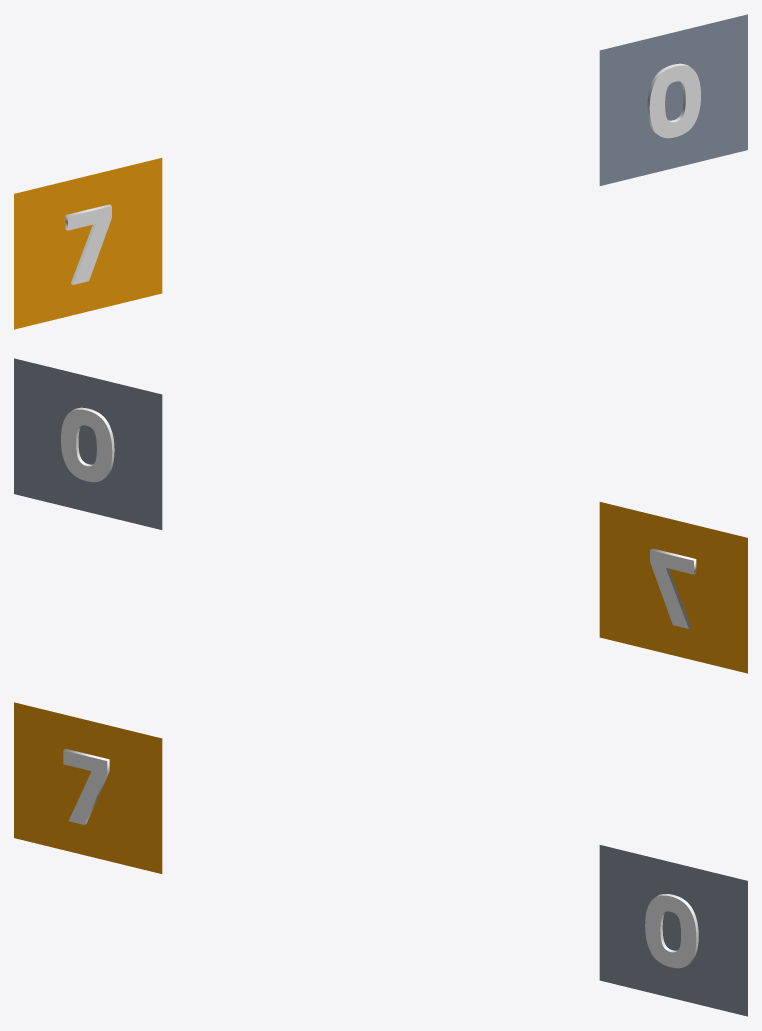
File: sayi6.gltf
The picture shows the model from 3 angles, top to bottom: view 1: azimuth 30°, elevation 25°; view 2: azimuth 150°, elevation 25°; view 3: azimuth 330°, elevation 25°; orthographic projection.
Parts seen in each view (by area): view 1: Plane.022, Plane.023, Text.076, Text.075; view 2: Plane.022, Plane.023, Text.076, Text.075; view 3: Plane.022, Plane.023, Text.076, Text.075.
Part boxes in pixels (x1,y1,x2,y2): Plane.022: (14,158,162,329); Plane.023: (599,14,747,185); Text.076: (647,63,700,138); Text.075: (65,204,111,284); Plane.022: (599,502,747,673); Plane.023: (14,358,162,529); Text.076: (61,407,114,482); Text.075: (650,548,696,628); Plane.022: (14,702,162,873); Plane.023: (599,845,747,1016); Text.076: (645,894,698,968); Text.075: (63,748,109,824).
Size of the model in its own units: 0.396 by 0.0702 by 0.00435.
